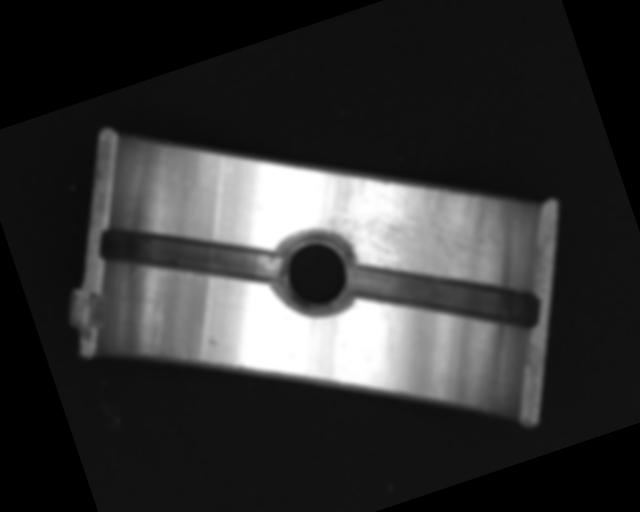bruise: (206, 334, 220, 347)
gap: (349, 218, 542, 376), (96, 181, 285, 328)
hole: (266, 220, 365, 325)
nick: (138, 300, 177, 354)
scratch: (302, 136, 503, 326)
